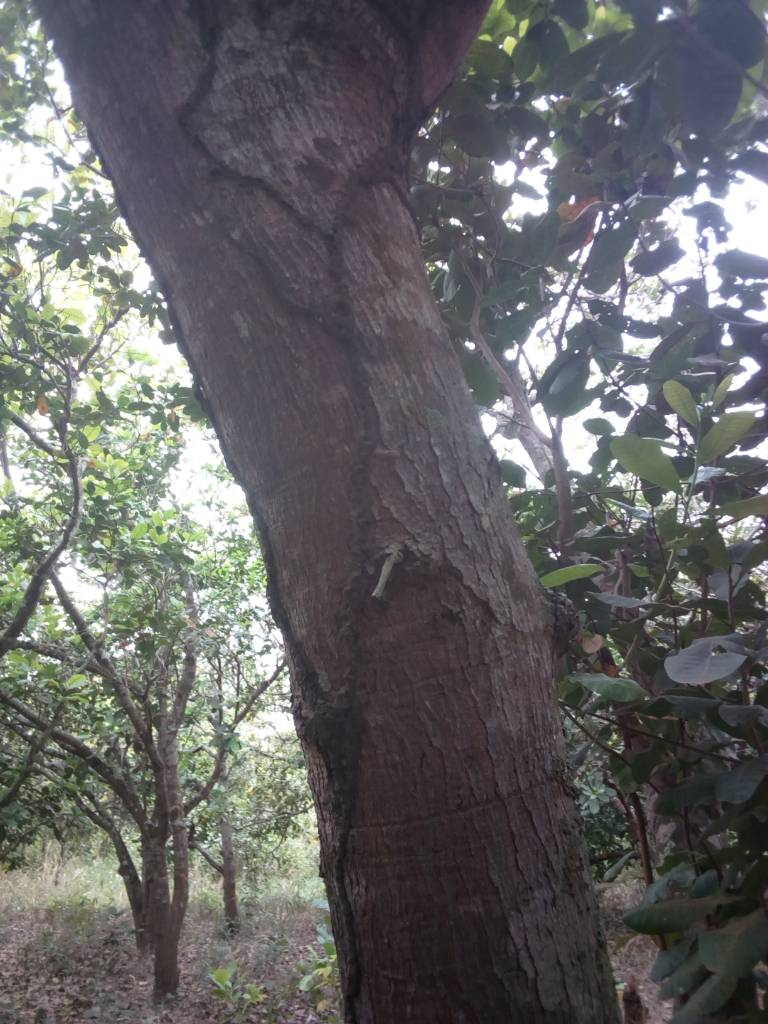Termites: (330, 127, 424, 560), (300, 650, 368, 1016)
